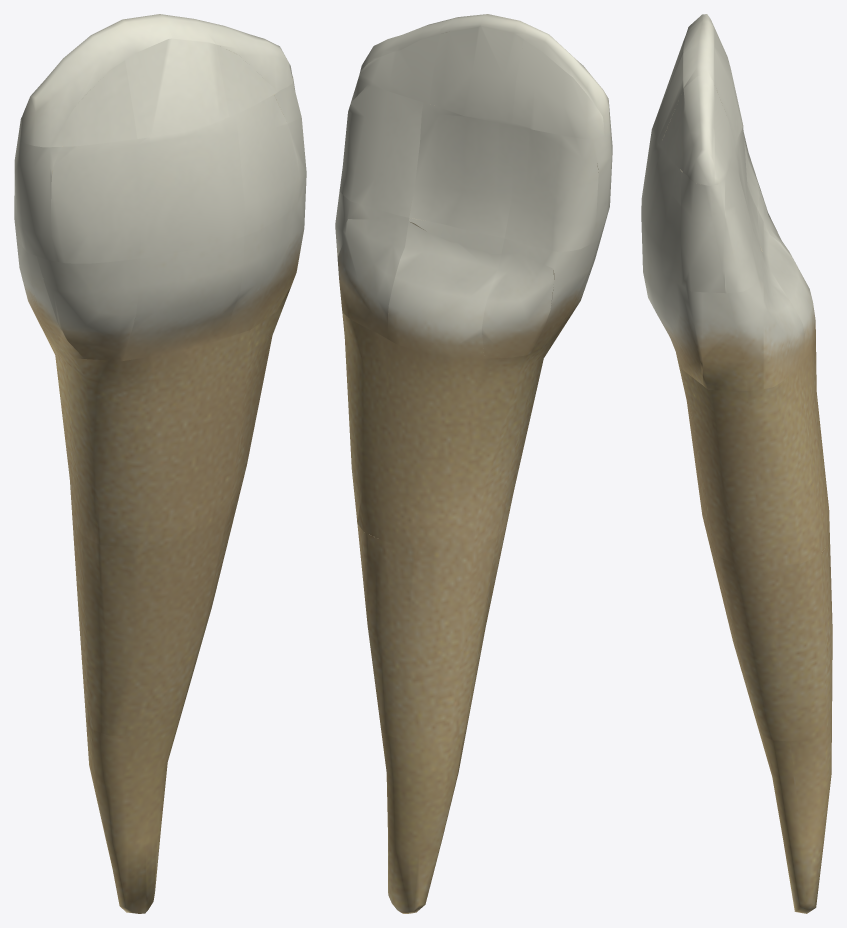
File: Left_Lower_Canine.glb
The picture shows the model from 3 angles, left to right: view 1: azimuth 30°, elevation 25°; view 2: azimuth 150°, elevation 25°; view 3: azimuth 270°, elevation 25°; orthographic projection. The views are drawn at different scales.
Visible parts, largest first — view 1: Human_Teeth_Lower_Canine.002; view 2: Human_Teeth_Lower_Canine.002; view 3: Human_Teeth_Lower_Canine.002.
Boxes of the visible parts, <box> form: Human_Teeth_Lower_Canine.002: <box>14,14,306,913</box>; Human_Teeth_Lower_Canine.002: <box>335,14,612,913</box>; Human_Teeth_Lower_Canine.002: <box>641,14,832,913</box>.
Size of the model in its own units: 1.1 by 3.53 by 0.7112.
30 materials, 30 textured.
